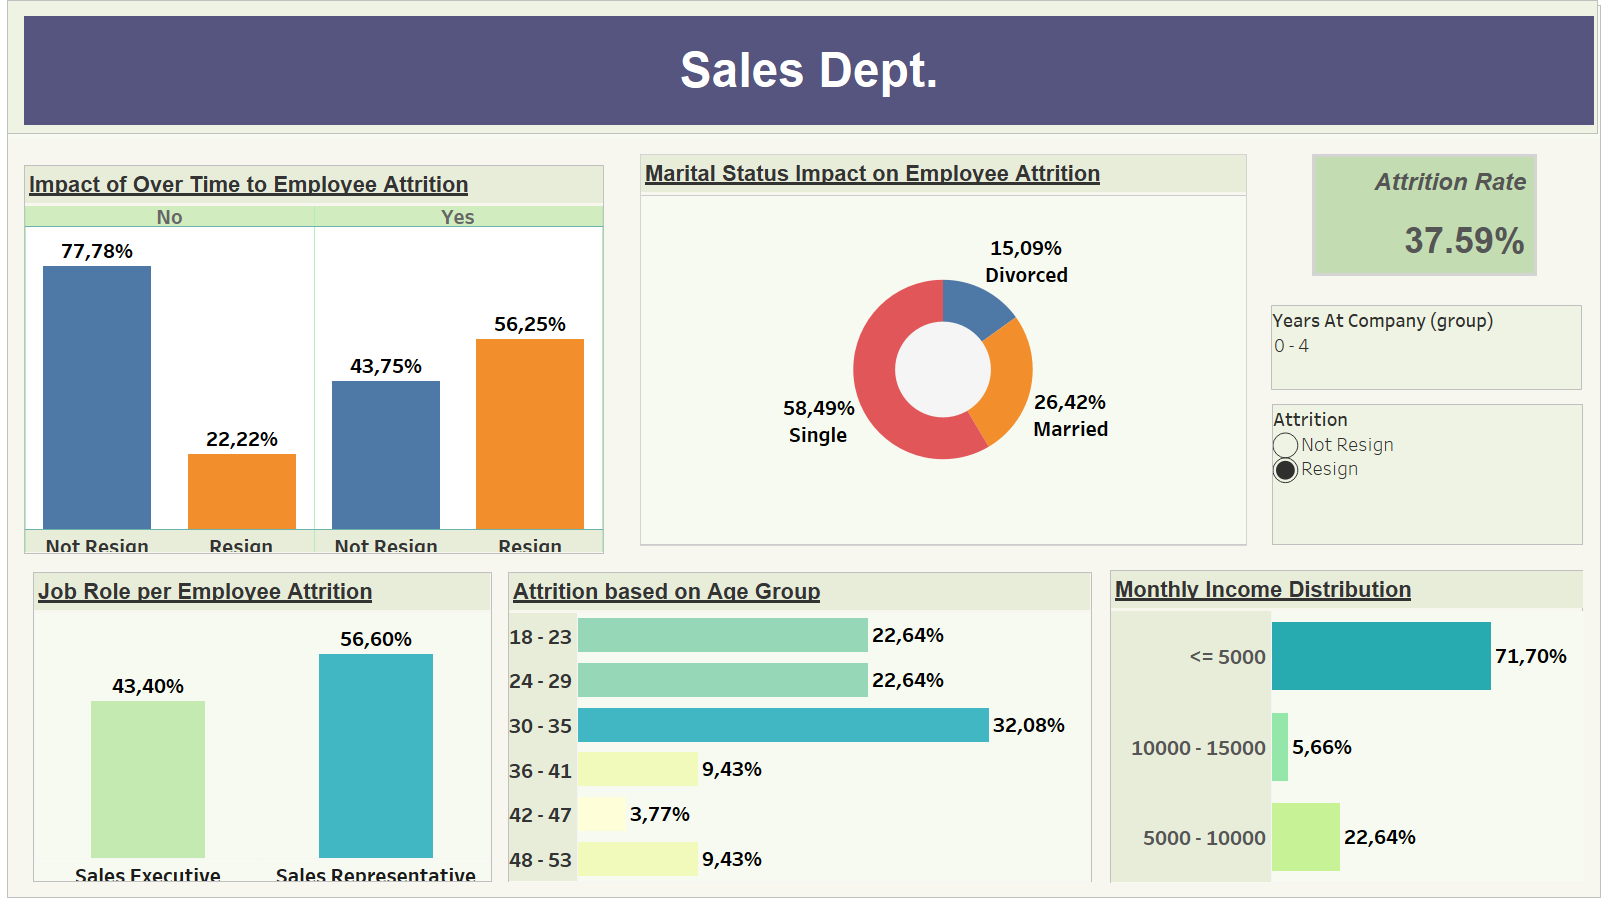

This screenshot's page, from the dashboard's own definition file:
{"tool":"tableau","page":{"name":"Dashboard_Sales","canvas":[1000,1000],"units":"permille","ordinal":2},"visuals":[{"type":"blank","box":[4.3,0,992.2,148.7]},{"type":"blank","box":[4.3,5.1,993.9,989.9]},{"type":"blank","box":[5.2,6.8,992.2,147]},{"type":"text","box":[15.2,17.2,978.6,121.6]},{"type":"worksheet","title":"sales_maritalstatus","mark":"Pie","rows":["EmployeeCount","EmployeeCount"],"box":[399.1,170.6,378.4,434.1]},{"type":"text","box":[818.2,170.6,140.3,135.1]},{"type":"worksheet","title":"sales_overtime","mark":"Automatic","cols":["OverTime","Attrition"],"box":[14.7,182.4,361.9,430.7]},{"type":"filter","title":"sales_age ","param":"[federated.0cw0afy1n3x3ps108bnmo1yaweov].[Years At Company (group)]","box":[792.2,337.8,193.9,94.6]},{"type":"legend","title":"sales_overtime","param":"[federated.0cw0afy1n3x3ps108bnmo1yaweov].[none:OverTime:nk]","box":[560.6,366.7,131.5,64.4]},{"type":"legend","title":"sales_overtime","param":"[federated.0cw0afy1n3x3ps108bnmo1yaweov].[sum:EmployeeCount:qk]","box":[574.6,383.3,131.5,42.2]},{"type":"filter","title":"sales_age ","param":"[federated.0cw0afy1n3x3ps108bnmo1yaweov].[none:Attrition:nk]","box":[793.1,447.6,193.9,155.4]},{"type":"worksheet","title":"sales_monthly income","mark":"Automatic","cols":["EmployeeCount"],"box":[691.8,631.8,295.2,346.3]},{"type":"worksheet","title":"sales_jobrole","mark":"Automatic","rows":["EmployeeCount"],"cols":["JobRole"],"box":[20.8,633.5,285.7,342.9]},{"type":"worksheet","title":"sales_age ","mark":"Automatic","box":[316.9,633.5,363.6,342.9]}]}

Visuals, with their boxes on the dashboard's canvas, which has no fixed pixel size, in thousandths of its width and height (x1, y1, x2, y2). These are canvas units, not pixel positions in the 1604x903 screenshot, which may show the page scaled, cropped or inside an application window:
blank: [left=4, top=0, right=996, bottom=149]
blank: [left=4, top=5, right=998, bottom=995]
blank: [left=5, top=7, right=997, bottom=154]
text: [left=15, top=17, right=994, bottom=139]
"sales_maritalstatus" worksheet (Pie marks): [left=399, top=171, right=778, bottom=605]
text: [left=818, top=171, right=958, bottom=306]
"sales_overtime" worksheet: [left=15, top=182, right=377, bottom=613]
"sales_age " filter: [left=792, top=338, right=986, bottom=432]
"sales_overtime" legend: [left=561, top=367, right=692, bottom=431]
"sales_overtime" legend: [left=575, top=383, right=706, bottom=426]
"sales_age " filter: [left=793, top=448, right=987, bottom=603]
"sales_monthly income" worksheet: [left=692, top=632, right=987, bottom=978]
"sales_jobrole" worksheet: [left=21, top=634, right=306, bottom=976]
"sales_age " worksheet: [left=317, top=634, right=680, bottom=976]
